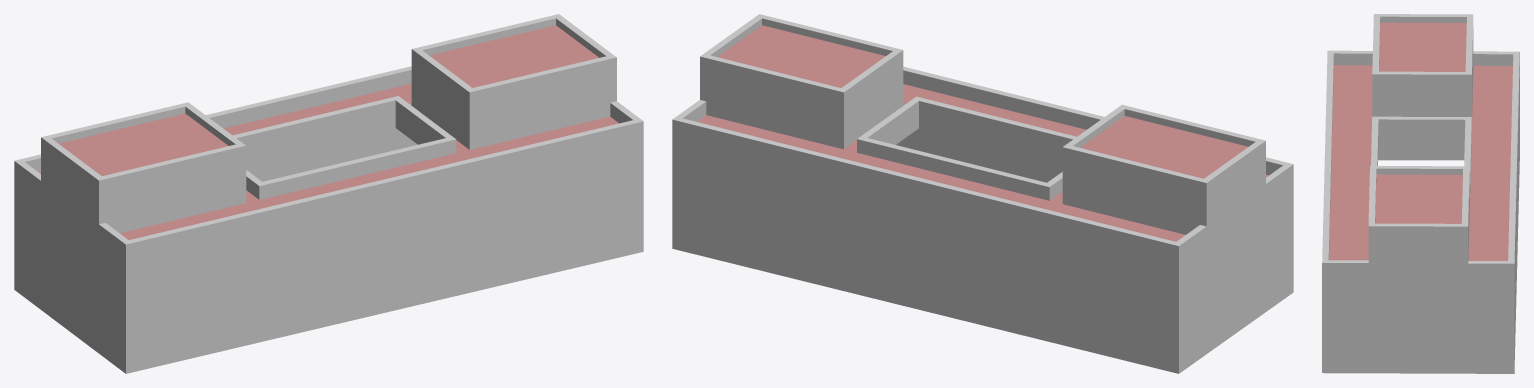
File: LOD_Block_0_26.glb
3 views of the same model, side by side, from view 1: azimuth 30°, elevation 25°; view 2: azimuth 150°, elevation 25°; view 3: azimuth 270°, elevation 25° (orthographic). The views are drawn at different scales.
Parts seen in each view (by area): view 1: mesh_CityEngineMaterial_379; view 2: mesh_CityEngineMaterial_379; view 3: mesh_CityEngineMaterial_379.
Part boxes in pixels (box(x1,y1,x2,y2)): mesh_CityEngineMaterial_379: box(14, 14, 643, 373); mesh_CityEngineMaterial_379: box(672, 14, 1293, 373); mesh_CityEngineMaterial_379: box(1322, 14, 1519, 373).
Size of the model in its own units: 39.15 by 12.61 by 15.35.
